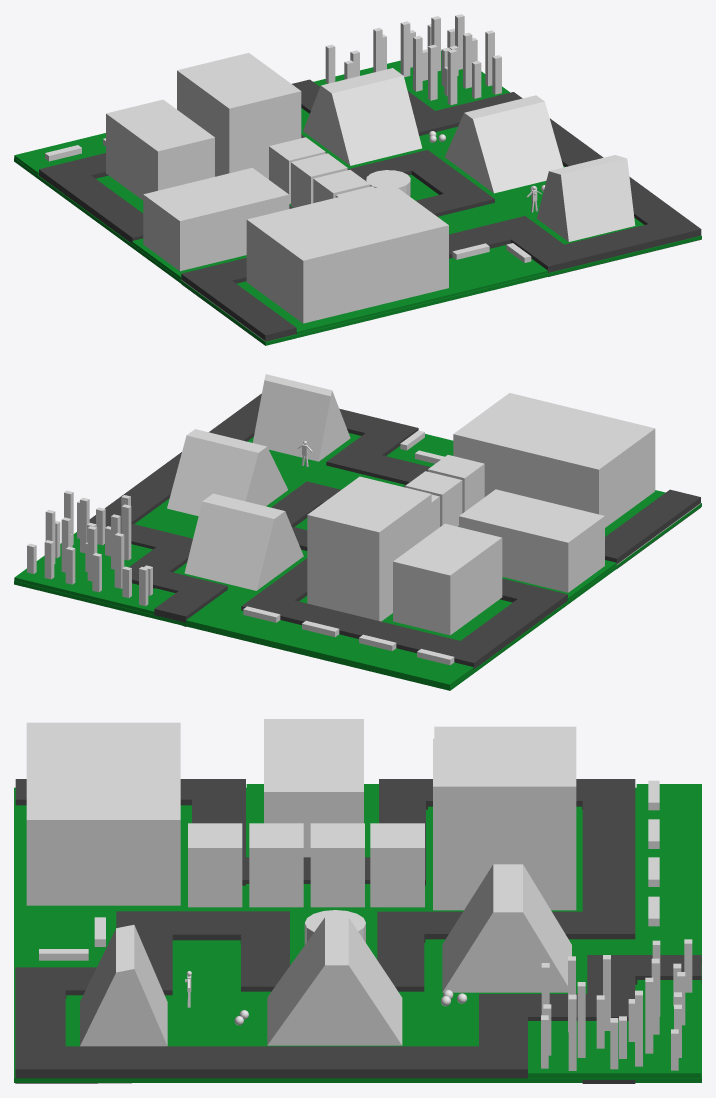
Rendered from Genesis___Town_blockout_(1).fbx.
3 renders of one model, top to bottom at view 1: azimuth 30°, elevation 25°; view 2: azimuth 150°, elevation 25°; view 3: azimuth 270°, elevation 25°, orthographic. The views are drawn at different scales.
Visible parts, largest first — view 1: Cube.003, Cube.006, Cube.002, Cube.007, Cube.044, Cube.004, Cube.042, Cube.045, Cube.046, Cube.005, Cube, Cube.010 (+8 smaller); view 2: Cube.003, Cube.002, Cube.006, Cube.005, Cube.007, Cube.004, Cube.044, Cube.045, Cube.046, Cube, Cube.042, Cube.009 (+3 smaller); view 3: Cube.003, Cube.002, Cube.006, Cube.005, Cube.045, Cube.044, Cube.007, Cube.042, Cube.046, Cube, Cube.009, Cube.011 (+10 smaller).
Boxes of the visible parts, x1,y1,x2,y2 form: Cube.003: (39,79,701,345); Cube.006: (246,184,448,323); Cube.002: (14,50,643,334); Cube.007: (143,167,289,271); Cube.044: (303,68,421,165); Cube.004: (106,99,214,200); Cube.042: (178,53,301,179); Cube.045: (445,95,563,193); Cube.046: (537,155,635,241); Cube.005: (177,53,289,176); Cube: (14,158,701,345); Cube.010: (291,153,347,207); Cube.003: (89,393,700,669); Cube.002: (14,433,665,687); Cube.006: (453,393,655,527); Cube.005: (307,477,431,620); Cube.007: (459,489,604,592); Cube.004: (393,523,502,635); Cube.044: (184,493,303,590); Cube.045: (167,429,287,516); Cube.046: (252,374,350,461); Cube: (14,503,701,690); Cube.042: (310,476,431,621); Cube.009: (405,471,462,526); Cube.003: (15,779,701,1083); Cube.002: (15,784,701,1077); Cube.006: (26,722,180,905); Cube.005: (434,738,576,910); Cube.045: (267,917,402,1045); Cube.044: (442,864,571,992); Cube.007: (264,719,363,857); Cube.042: (433,738,574,910); Cube.046: (80,925,167,1046); Cube: (14,787,701,1082); Cube.009: (249,823,303,907); Cube.011: (370,823,424,907).
Bounding box in the file's own units: 3151 × 670 × 3151.
